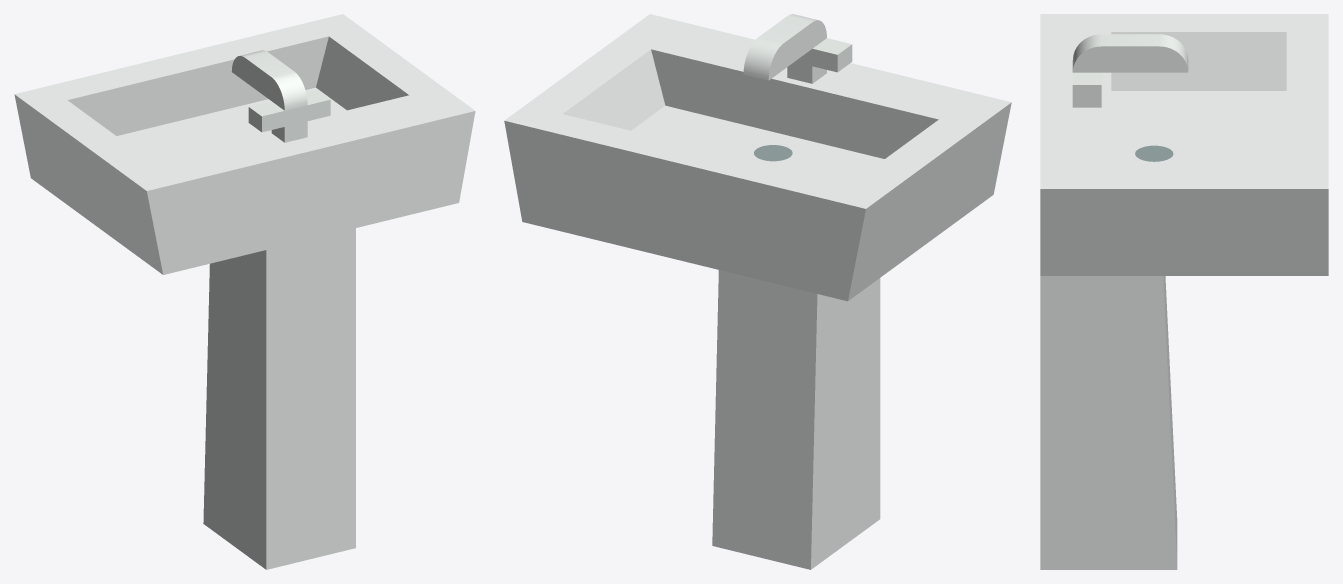
Rendered from Furniture_Sink.fbx.
The picture shows the model from 3 angles, left to right: view 1: azimuth 30°, elevation 25°; view 2: azimuth 150°, elevation 25°; view 3: azimuth 270°, elevation 25°; orthographic projection. The views are drawn at different scales.
Parts seen in each view (by area): view 1: bathroomSinkSquare; view 2: bathroomSinkSquare; view 3: bathroomSinkSquare.
Part boxes in pixels (bbox=[...]): bathroomSinkSquare: bbox=[14, 14, 475, 569]; bathroomSinkSquare: bbox=[504, 14, 1011, 569]; bathroomSinkSquare: bbox=[1040, 14, 1328, 569].
Bounding box in the file's own units: 430 × 580 × 300.
